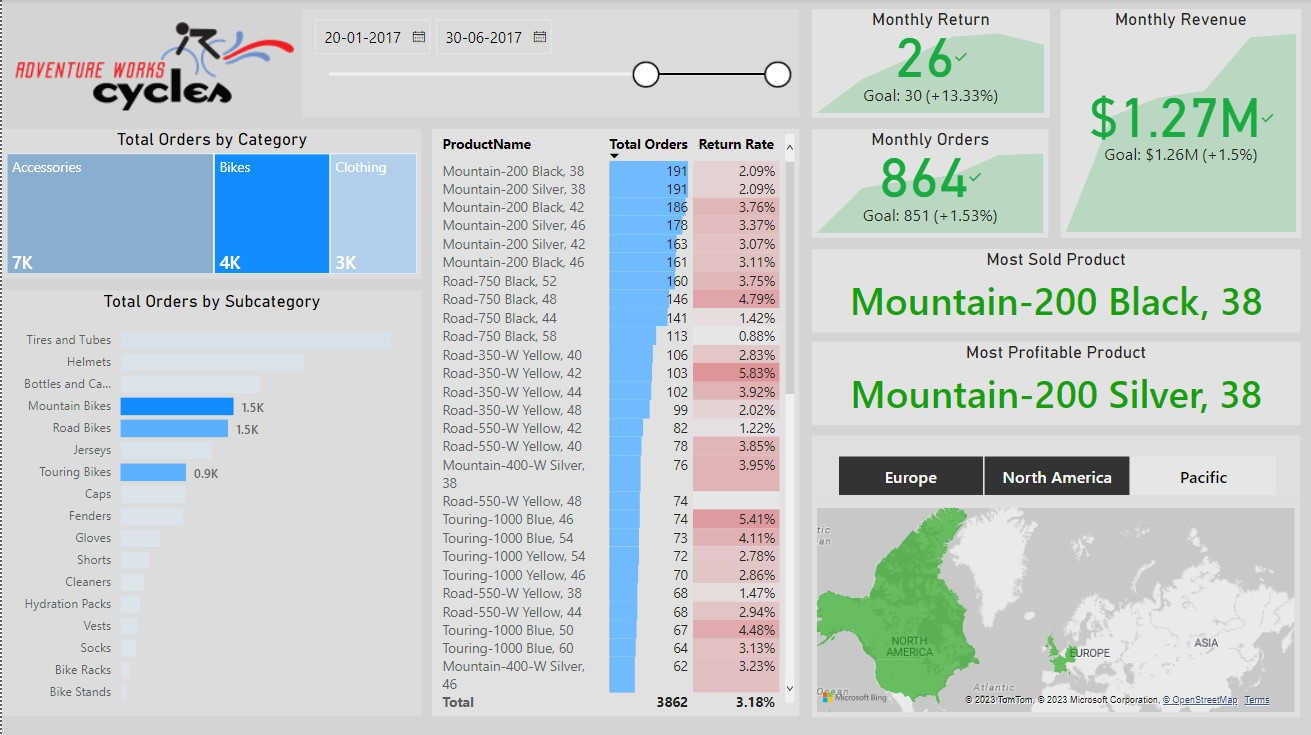

The dashboard page shown, as its layout file describes it:
{"tool":"powerbi","page":{"name":"Excutive Summary","canvas":[1280,720],"ordinal":0},"visuals":[{"type":"image","box":[8.8,10,285,112.5],"z":0},{"type":"barChart","title":"Total Orders by Subcategory","fields":{"Y":["AW_Sales.Total Orders"],"Category":["AW_Product_Subcategories_Lookup.SubcategoryName"]},"box":[0,284.8,410.7,415.6],"z":1000},{"type":"treemap","title":"Total Orders by Category","fields":{"Group":["AW_Product_Categories_Lookup.CategoryName","AW_Product_Subcategories_Lookup.SubcategoryName"],"Values":["AW_Sales.Total Orders"]},"box":[0,127.1,410.7,146.7],"z":2000},{"type":"pivotTable","fields":{"Values":["AW_Sales.Total Orders","AW_Returns.Return Rate"],"Rows":["AW_Product_Categories_Lookup.CategoryName","AW_Product_Subcategories_Lookup.SubcategoryName","AW_PRODUCT_LOOKUP.ProductName"]},"box":[420.1,127.3,359.5,574.5],"z":3000},{"type":"slicer","fields":{"Values":["AS_Calendar_LOOKUP.Date"]},"box":[293.8,10,486.2,106.2],"z":4000},{"type":"kpi","title":"Monthly Revenue","fields":{"Indicator":["AW_Sales.Total Revenue"],"TrendLine":["AS_Calendar_LOOKUP.Start of Month"],"Goal":["AW_Sales.Previous month"]},"box":[1035,10,235,223.8],"z":5000},{"type":"kpi","title":"Monthly Orders","fields":{"Indicator":["AW_Sales.Total Orders"],"TrendLine":["AS_Calendar_LOOKUP.Start of Month"],"Goal":["AW_Sales.Prev Month Order"]},"box":[792.5,127.5,231.2,106.2],"z":6000},{"type":"kpi","title":"Monthly Return","fields":{"TrendLine":["AS_Calendar_LOOKUP.Start of Month"],"Indicator":["AW_Returns.Total Return"],"Goal":["AW_Returns.Previous month Returns"]},"box":[792.5,10,232.5,106.2],"z":7000},{"type":"card","title":"Most Sold Product","fields":{"Values":["Min(AW_PRODUCT_LOOKUP.ProductName)"]},"box":[792.5,245,477.5,81.2],"z":8000},{"type":"card","title":"Most Profitable Product","fields":{"Values":["Min(AW_PRODUCT_LOOKUP.ProductName)"]},"box":[792.5,335,477.5,81.2],"z":9000},{"type":"filledMap","fields":{"Category":["AW_Territories_Lookup.Country"]},"box":[792.6,492.4,477.5,209.6],"z":10000},{"type":"slicer","fields":{"Values":["AW_Territories_Lookup.Continent"]},"box":[792.6,426.7,477.5,65.7],"z":11000}]}

Visuals, with their boxes in screenshot pixels (x1, y1, x2, y2), scaled from the page's 1280x720 canvas onto the 1311x735 screenshot:
image: bbox=(9, 10, 301, 125)
"Total Orders by Subcategory" barChart: bbox=(0, 291, 421, 715)
"Total Orders by Category" treemap: bbox=(0, 130, 421, 280)
pivotTable - AW_Sales.Total Orders x AW_Returns.Return Rate: bbox=(430, 130, 798, 716)
slicer - AS_Calendar_LOOKUP.Date: bbox=(301, 10, 799, 119)
"Monthly Revenue" kpi: bbox=(1060, 10, 1301, 239)
"Monthly Orders" kpi: bbox=(812, 130, 1048, 239)
"Monthly Return" kpi: bbox=(812, 10, 1050, 119)
"Most Sold Product" card: bbox=(812, 250, 1301, 333)
"Most Profitable Product" card: bbox=(812, 342, 1301, 425)
filledMap - AW_Territories_Lookup.Country: bbox=(812, 503, 1301, 717)
slicer - AW_Territories_Lookup.Continent: bbox=(812, 436, 1301, 503)
